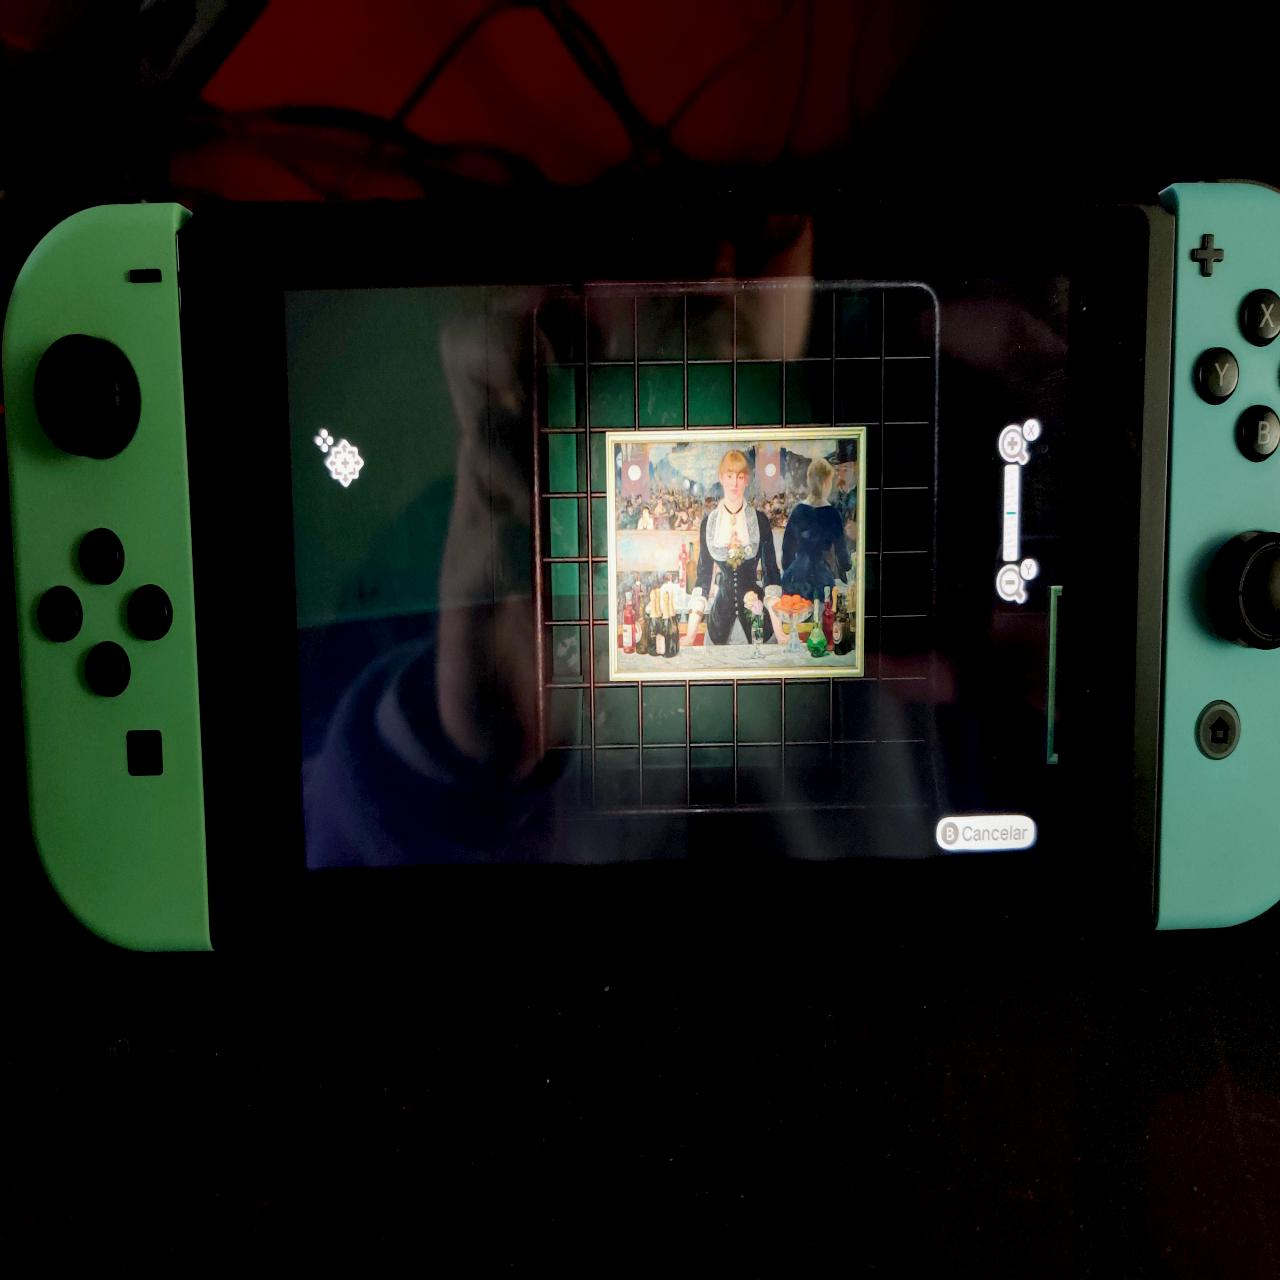BarFB: (614, 441, 855, 667)
